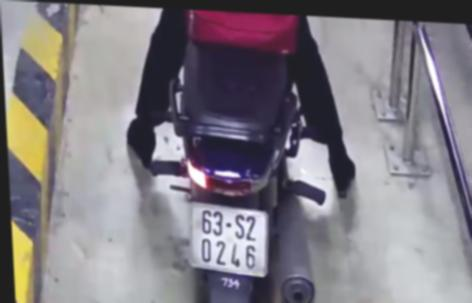License_Plate: (178, 196, 274, 281)
